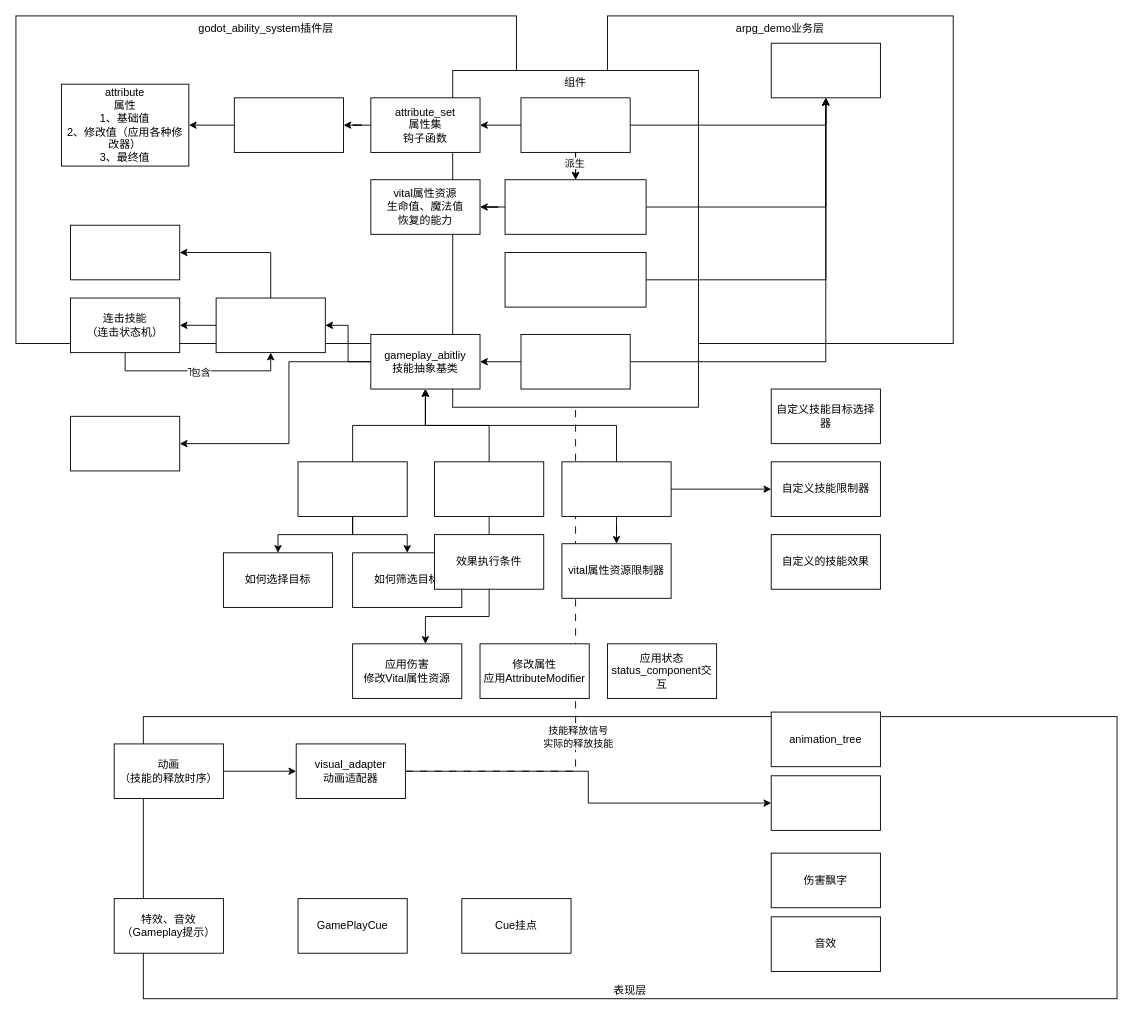
The diagram is 1133 pixels wide and 1015 high, and some of its shapes have lost their labels. Here are the shapes that lost their labels. From the top down, the centre of each, then its label:
the point at 825,70: Entity Player&Enemy
the point at 288,124: attribute_modifier 属性修改器
the point at 575,124: attribute_component 属性组件
the point at 575,206: vital_ attribute_component 属性资源组件
the point at 125,252: 投射物技能
the point at 575,279: ability_status_component 状态组件
the point at 270,325: 主动技能
the point at 575,361: ability_component 技能组件
the point at 125,443: 被动技能
the point at 352,488: 技能目标选择器
the point at 489,488: 技能效果 最终的动作原子 ability_effect
the point at 616,488: 技能限制器
the point at 825,802: animation_player
